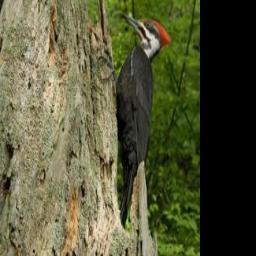Woodpecker: (98, 12, 173, 231)
